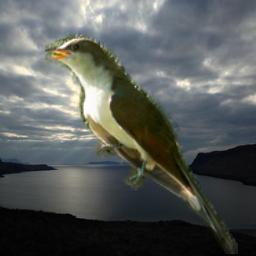Cuckoo: (45, 32, 238, 254)
